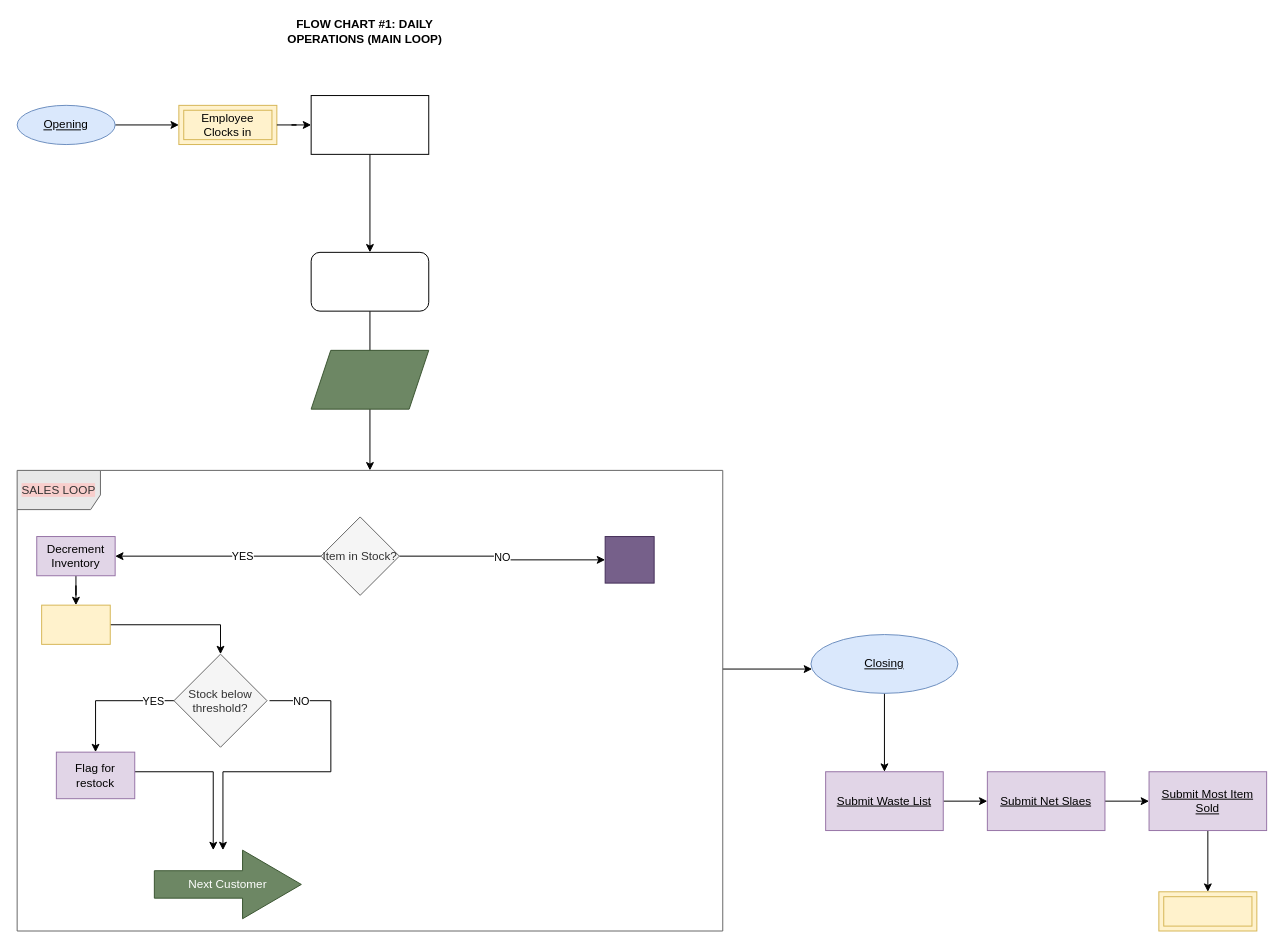
The diagram is 1284 pixels wide and 948 high, and some of its shapes have lost their labels. Each missing label, with the box of its shape:
Add tip to pool: (41, 604, 110, 644)
CUSTOMER ORDERS: (310, 349, 429, 409)
Employee Clocks Out: (1158, 891, 1257, 931)
Mark Sold Out: (604, 536, 654, 583)
Prep Pastries Bake.etc: (310, 95, 429, 154)
Verify Prior Day imventory: (310, 251, 429, 311)
